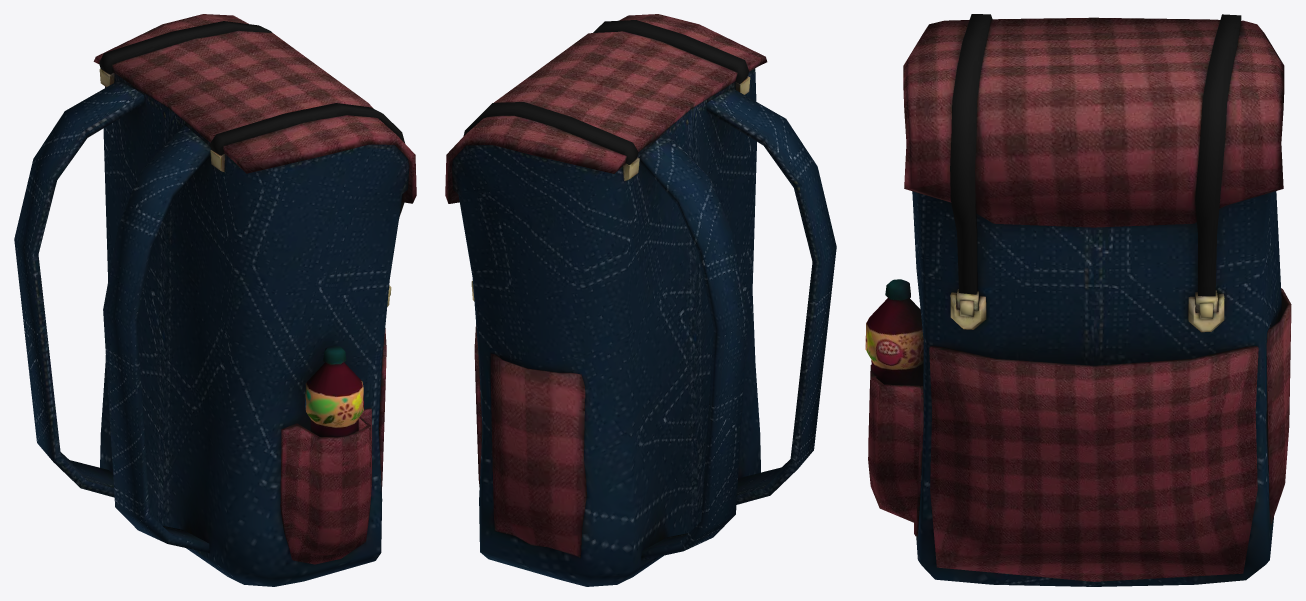
Rendered from mochila.gltf.
3 views of the same model, side by side, from view 1: azimuth 30°, elevation 25°; view 2: azimuth 150°, elevation 25°; view 3: azimuth 270°, elevation 25° (orthographic). The views are drawn at different scales.
Visible parts, largest first — view 1: mochila; view 2: mochila; view 3: mochila.
Boxes of the visible parts, box(x1,y1,x2,y2) form: mochila: box(14, 14, 416, 586); mochila: box(445, 14, 836, 586); mochila: box(865, 14, 1291, 586).
Size of the model in its own units: 0.3224 by 0.5 by 0.3762.
1 material, 1 textured.
